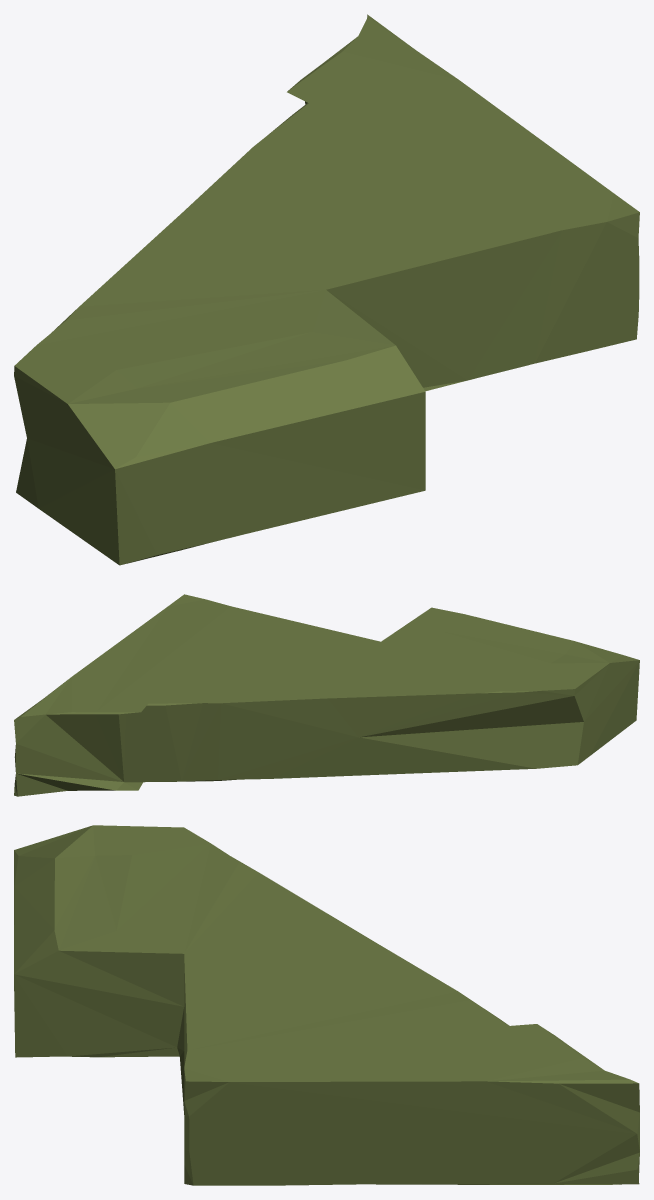
Rendered from ground_21.fbx.
The picture shows the model from 3 angles, top to bottom: view 1: azimuth 30°, elevation 25°; view 2: azimuth 150°, elevation 25°; view 3: azimuth 270°, elevation 25°; orthographic projection. The views are drawn at different scales.
Visible parts, largest first — view 1: ground_21; view 2: ground_21; view 3: ground_21.
Part boxes in pixels (x1=…): ground_21: x1=14, y1=14, x2=639, y2=565; ground_21: x1=14, y1=594, x2=639, y2=796; ground_21: x1=14, y1=825, x2=639, y2=1185.
Size of the model in its own units: 16.02 by 3.12 by 16.63.
